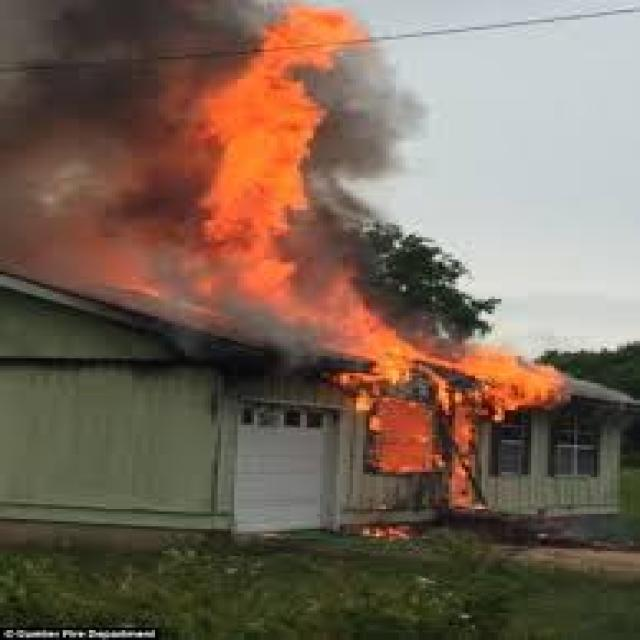Fire: (182, 7, 565, 491)
Smoke: (0, 6, 182, 320)
